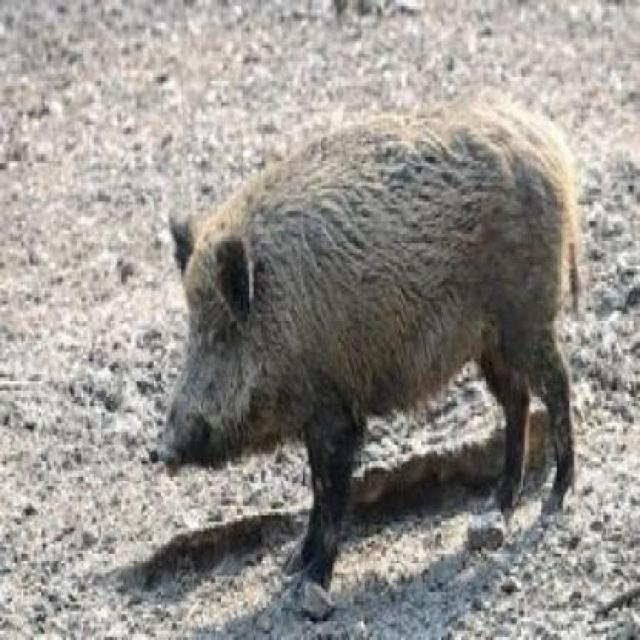wildboar: (149, 95, 583, 594)
